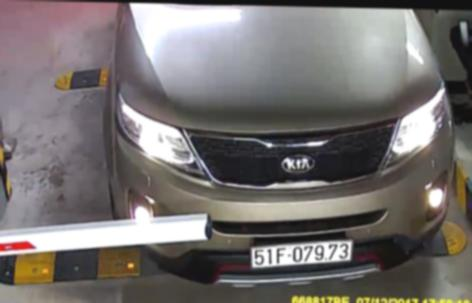License_Plate: (250, 238, 357, 271)
